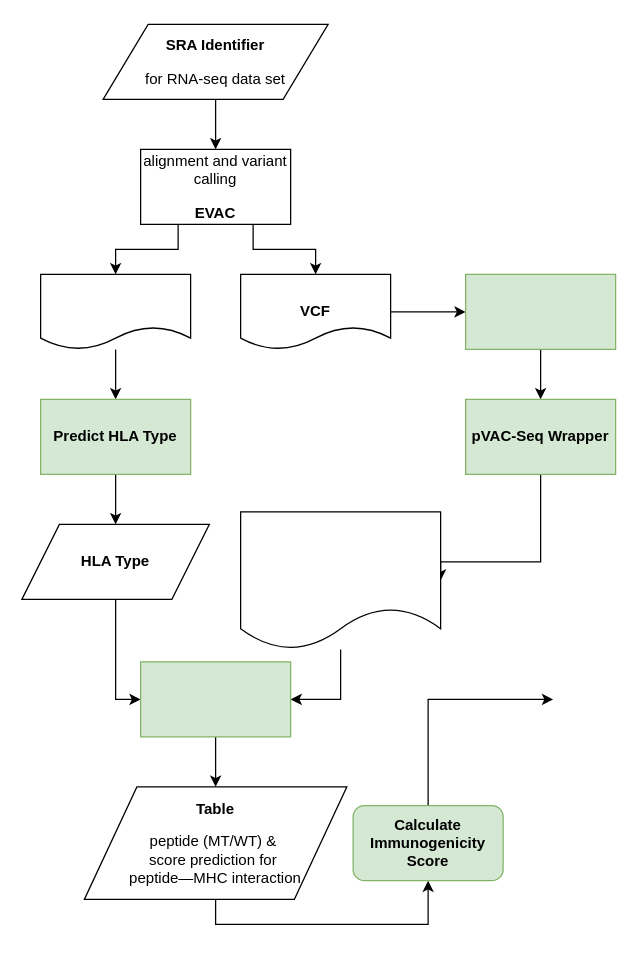
Some shapes in this 638 by 956 pixel diagram are drawn without their labels. The shapes that lost their labels are listed below. From the top down, each one's box as (x1, y1, x2, y2) in pixels, then its label:
(39, 273, 191, 349): BAM
(464, 273, 616, 349): VEP Wrapper
(239, 511, 441, 649): CSV of MT and WT peptides surrounding a variant
(139, 661, 291, 737): FRED2 Wrapper
